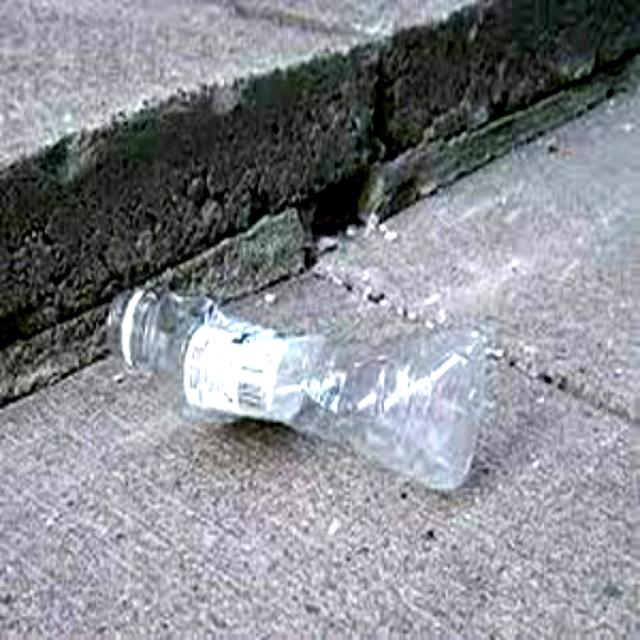Plastic: (100, 276, 492, 497)
